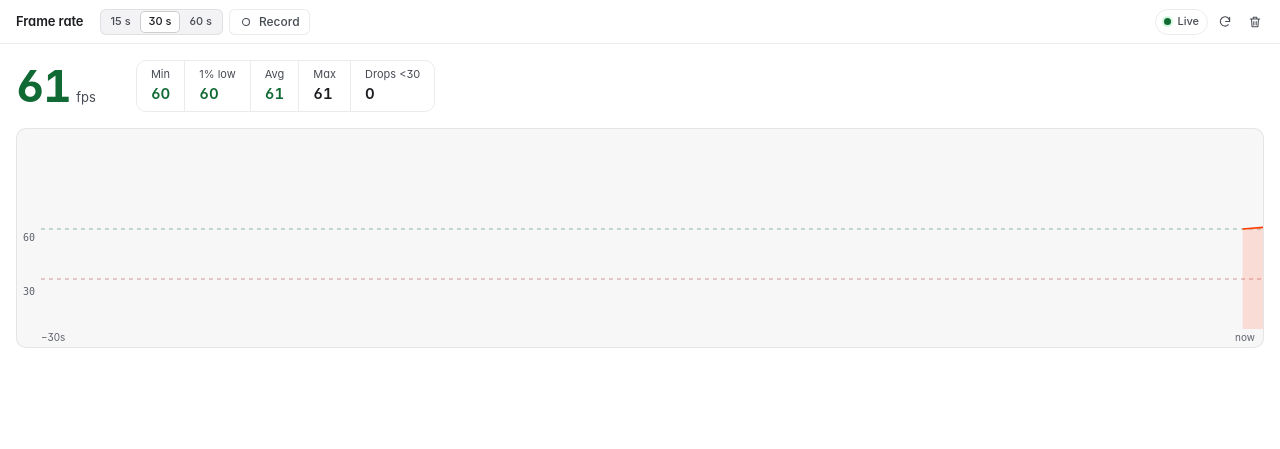
it: FpsMonitor › clears samples on the server and locally
The image size is (1280, 449).
Click the button "Record" at (269, 22), box [229,8,310,34]
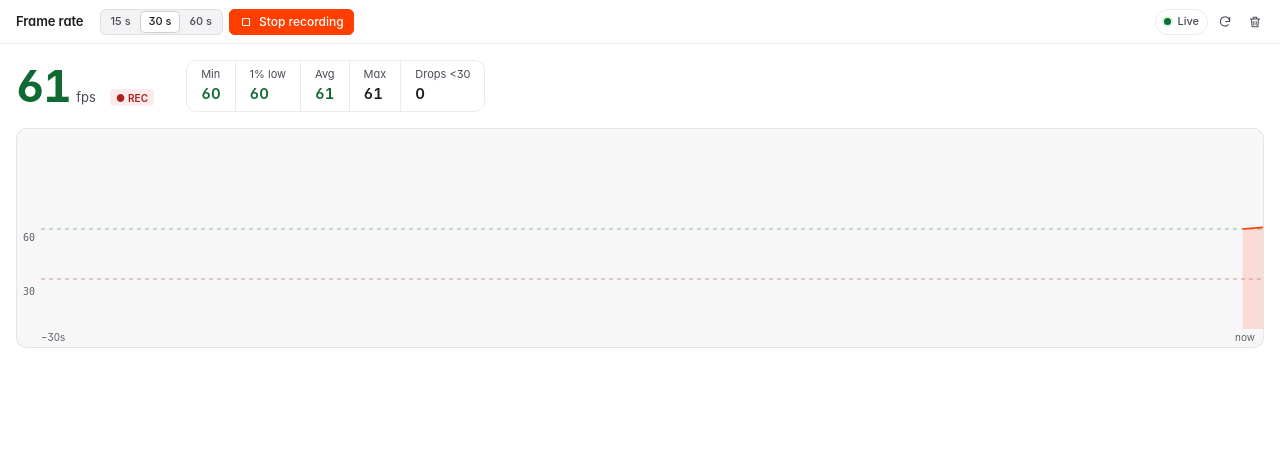
Click the button named "Clear recorded data" at (1255, 22), box [1242,8,1268,34]
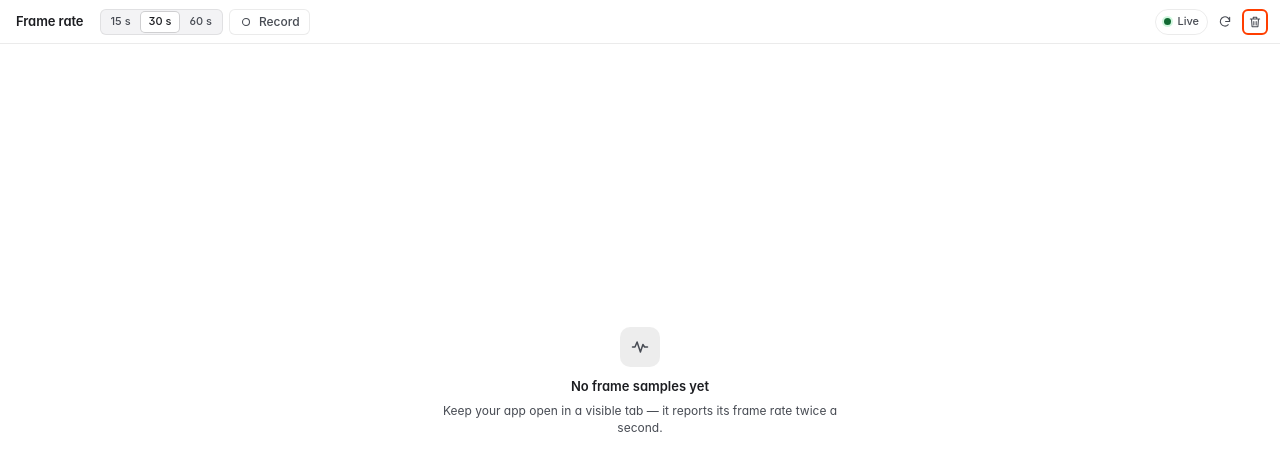
Expected: the button "Record" is shown, [229,8,310,34]
Expected: the message shows "No frame samples yet", [571,378,709,394]
